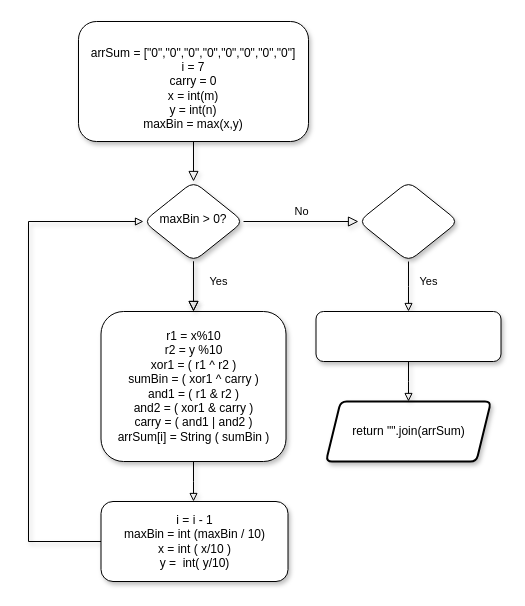
This 525x606 diagram has some shape labels left out. The shapes that lost their labels are listed below. From the top down, each one's centre as x and y in pixels, then its label:
At point 409,222: "i > = 0 ?".
At point 409,337: "arrSum[i] = String(carry)".
